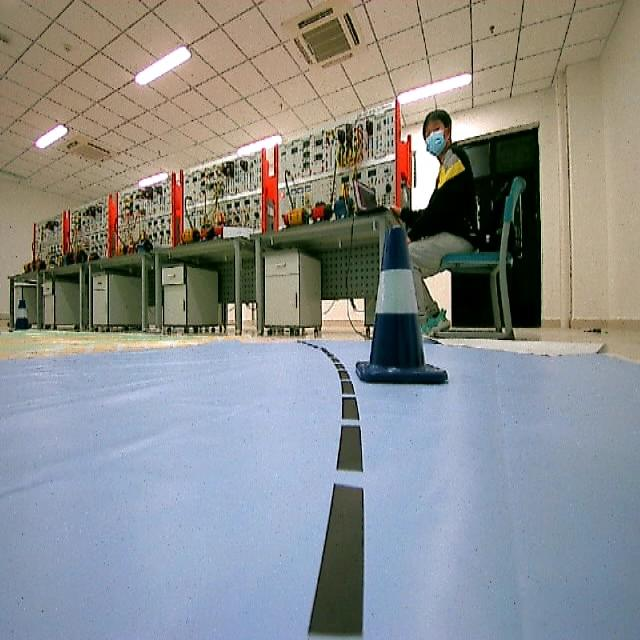obstacle: (357, 220, 454, 392)
